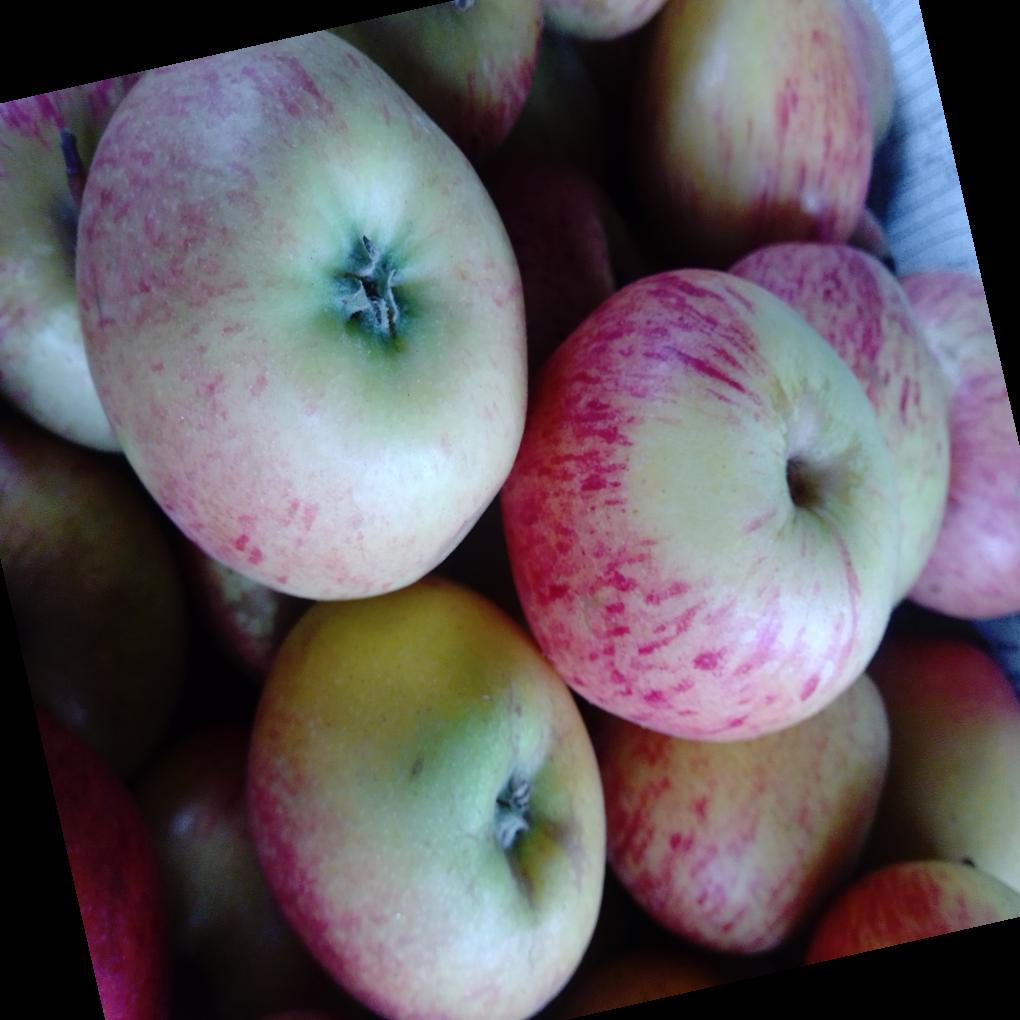FreshGuava: (67, 34, 973, 1020)
